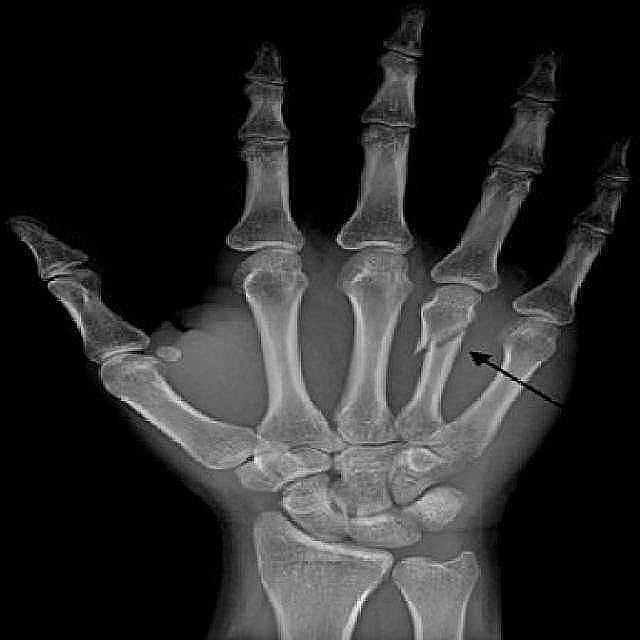bone: (409, 309, 472, 370)
